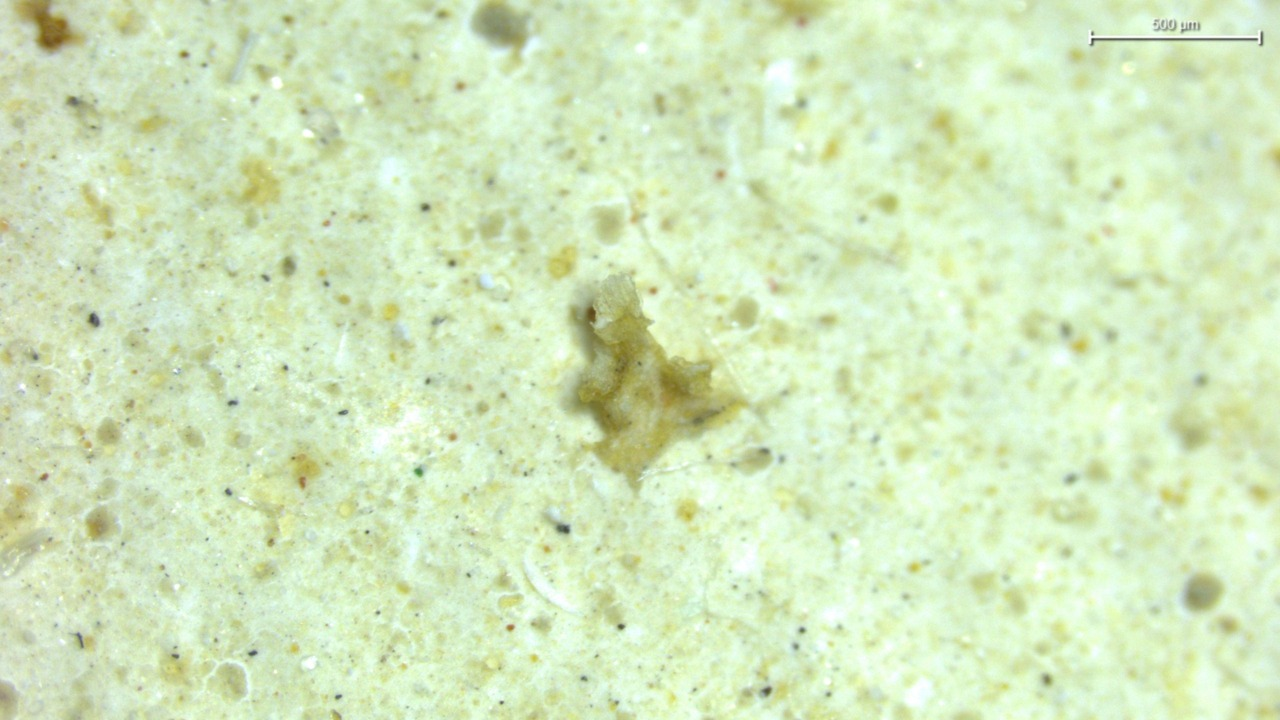microplastic_fragment: (578, 274, 731, 478)
